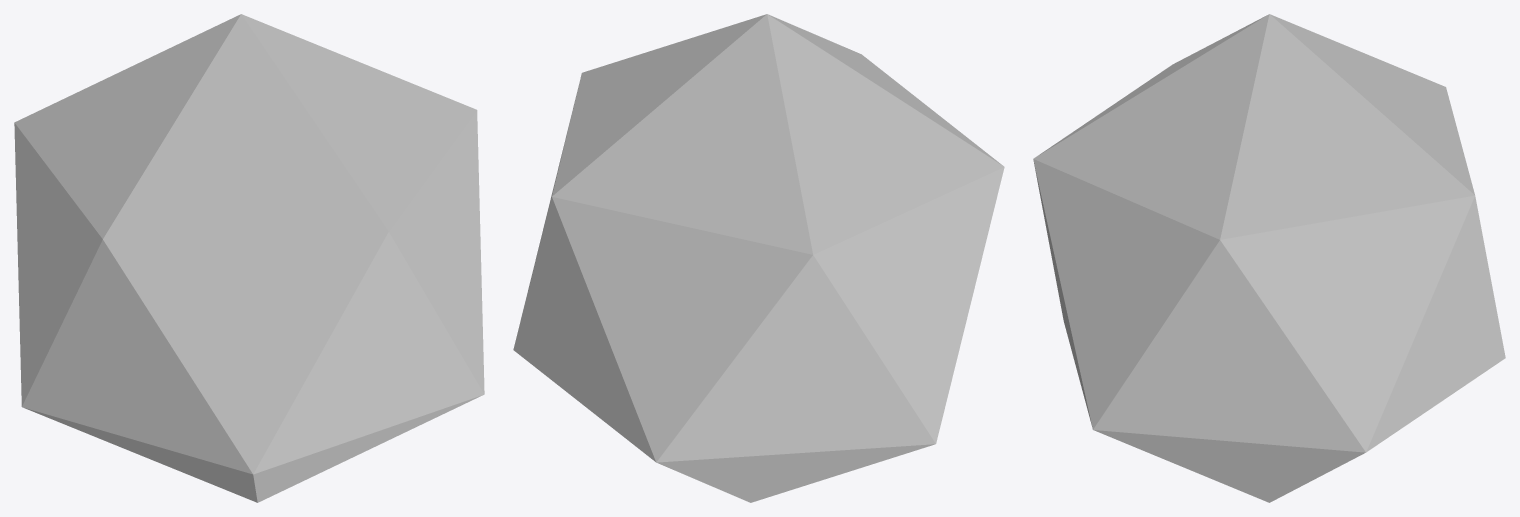
File: SM_RestosVamtac_v4_LOD1.fbx
The picture shows the model from 3 angles, left to right: view 1: azimuth 30°, elevation 25°; view 2: azimuth 150°, elevation 25°; view 3: azimuth 270°, elevation 25°; orthographic projection. The views are drawn at different scales.
Parts seen in each view (by area): view 1: Humo; view 2: Humo; view 3: Humo.
Boxes of the visible parts, bbox=[...] form: Humo: bbox=[14, 14, 484, 502]; Humo: bbox=[513, 14, 1004, 502]; Humo: bbox=[1033, 14, 1505, 502].
Size of what is drawn, in the model's own units: 0.5152 by 0.5996 by 0.5337.
